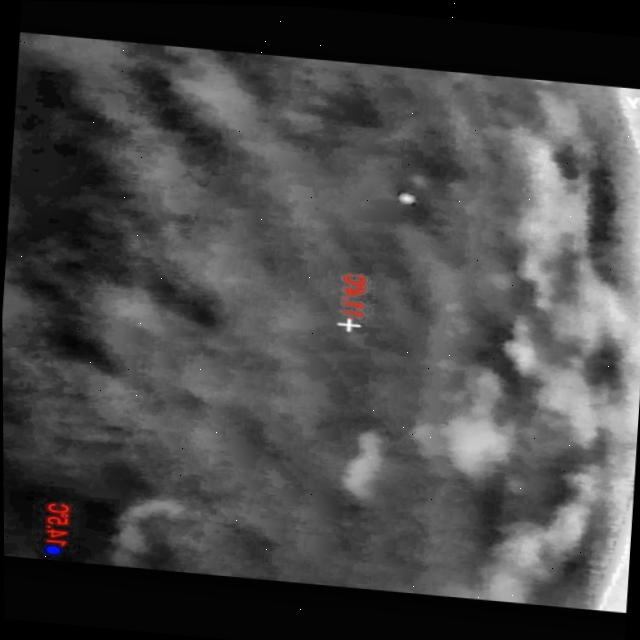drone: (394, 190, 419, 201)
